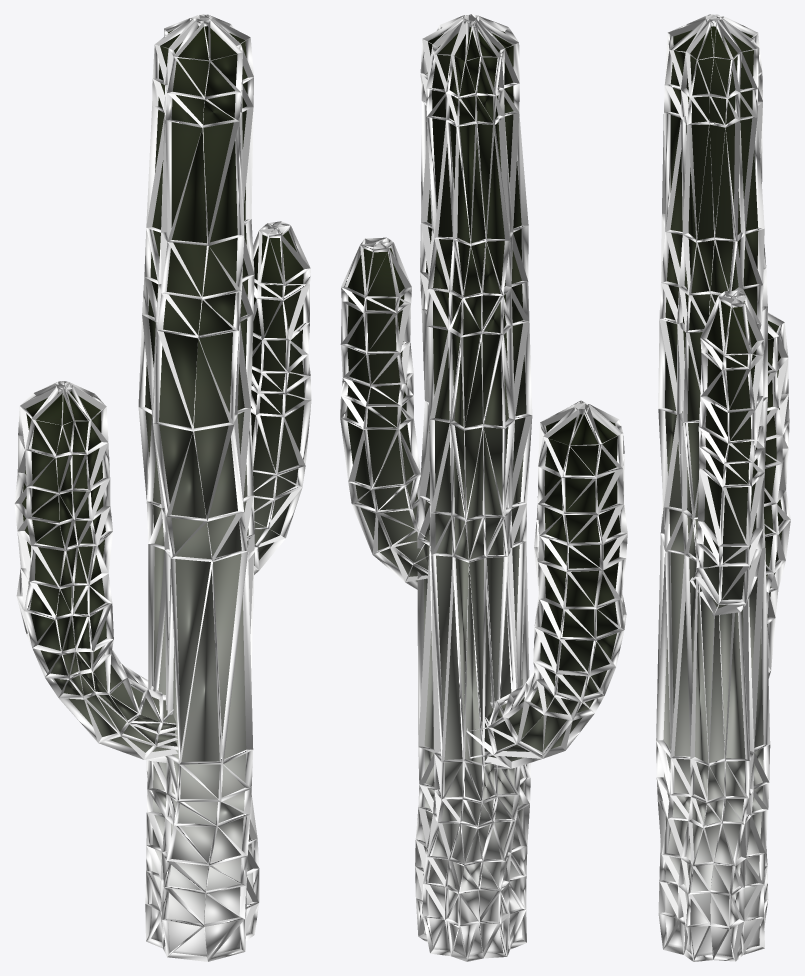
File: Cactus_new_4.glb
3 views of the same model, side by side, from view 1: azimuth 30°, elevation 25°; view 2: azimuth 150°, elevation 25°; view 3: azimuth 270°, elevation 25° (orthographic).
Parts seen in each view (by area): view 1: polySurface4, polySurface2, polySurface1, polySurface3; view 2: polySurface4, polySurface2, polySurface1, polySurface3; view 3: polySurface4, polySurface2, polySurface3, polySurface1.
Part boxes in pixels (x1,y1,x2,y2): polySurface4: [22, 25, 304, 956]; polySurface2: [138, 14, 259, 961]; polySurface1: [14, 381, 178, 762]; polySurface3: [248, 221, 311, 574]; polySurface4: [347, 27, 620, 956]; polySurface2: [415, 14, 532, 961]; polySurface1: [466, 400, 627, 768]; polySurface3: [340, 237, 430, 589]; polySurface4: [663, 26, 783, 956]; polySurface2: [656, 14, 770, 961]; polySurface3: [690, 290, 764, 615]; polySurface1: [764, 312, 790, 678].
Bounding box in the file's own units: 4.26 × 13.38 × 1.76.
Materials: 2 (1 with a texture image).
